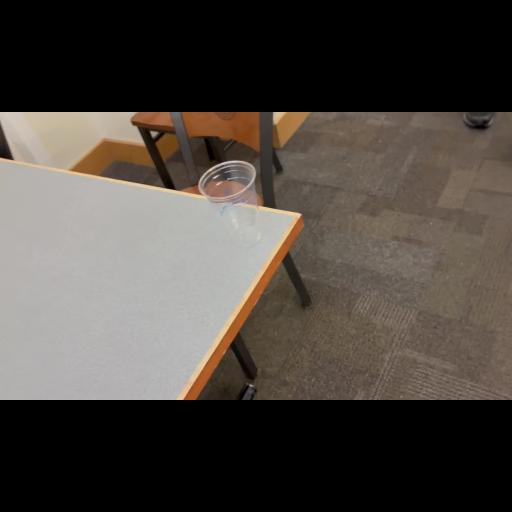lp_plastic_cup: (200, 160, 260, 248)
